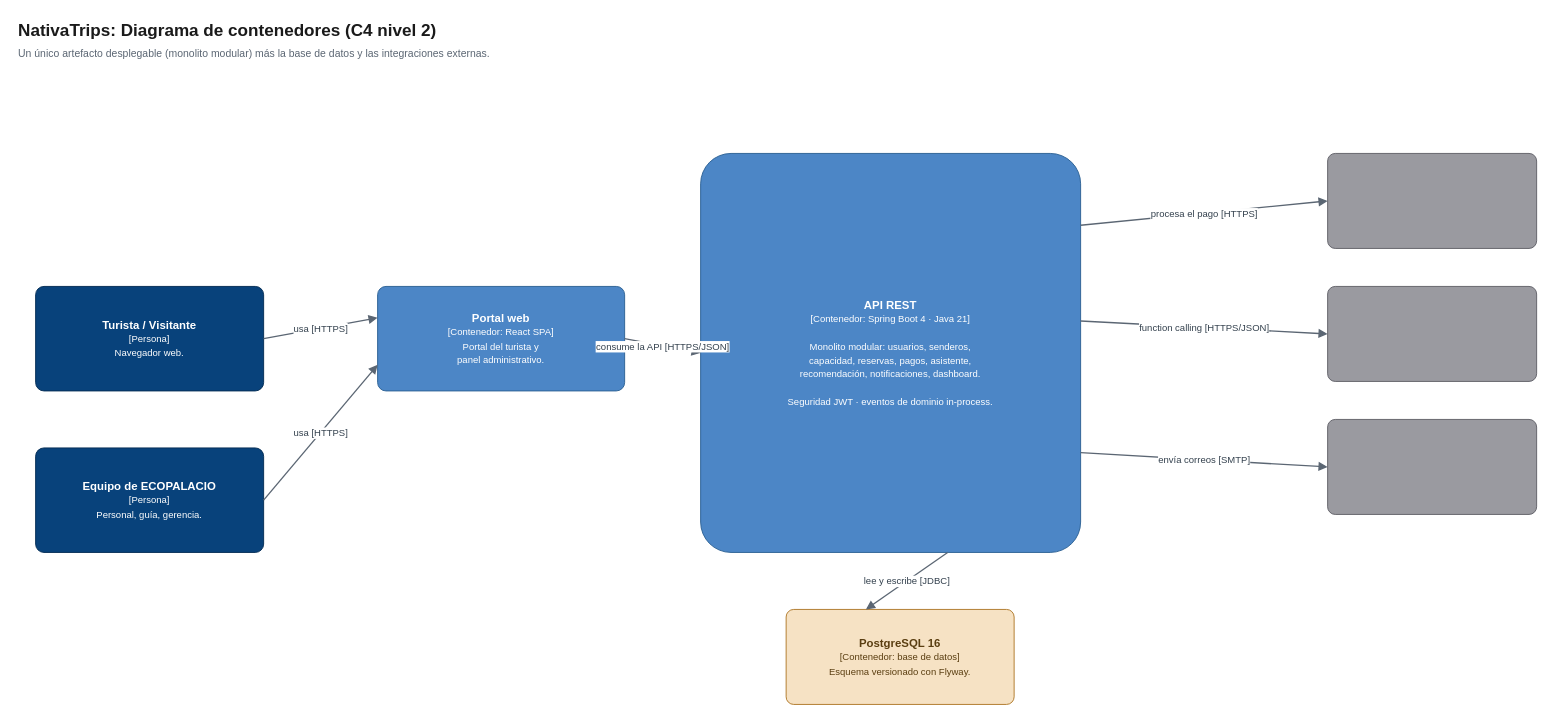
The diagram is 1553 pixels wide and 721 high, and some of its shapes have lost their labels. Each missing label, with the box of its shape:
API de Anthropic [Sistema externo]: (1327, 285, 1537, 381)
PayU [Sistema externo]: (1327, 152, 1537, 248)
Servidor SMTP [Sistema externo]: (1327, 418, 1537, 514)
